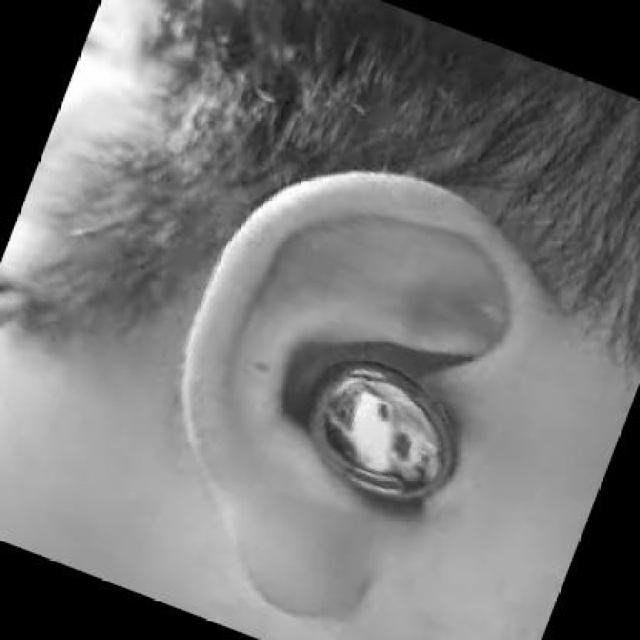earphone: (306, 337, 480, 508)
